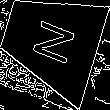N_W: (24, 14, 77, 68)
